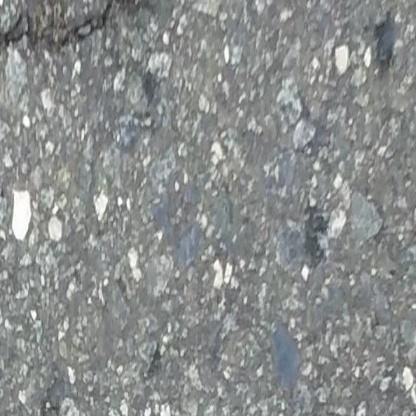Cracks: (0, 0, 178, 64)
